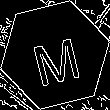M_N: (27, 25, 83, 85)
